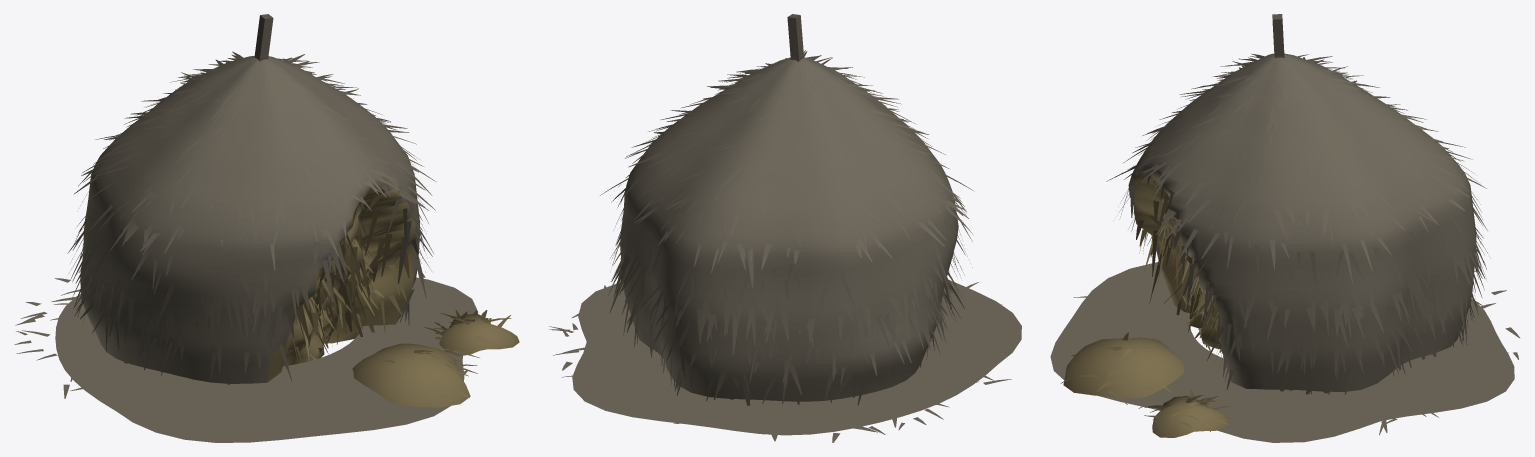
The model's file is lees_place_haystack_1812_d__lees_place_1812.glb.
The picture shows the model from 3 angles, left to right: view 1: azimuth 30°, elevation 25°; view 2: azimuth 150°, elevation 25°; view 3: azimuth 270°, elevation 25°; orthographic projection.
Visible parts, largest first — view 1: lees_place_haystack_1812_d__lees_place_1812; view 2: lees_place_haystack_1812_d__lees_place_1812; view 3: lees_place_haystack_1812_d__lees_place_1812.
Boxes of the visible parts, <box> form: lees_place_haystack_1812_d__lees_place_1812: <box>14,14,519,442</box>; lees_place_haystack_1812_d__lees_place_1812: <box>549,14,1021,442</box>; lees_place_haystack_1812_d__lees_place_1812: <box>1050,14,1519,442</box>.
Bounding box in the file's own units: 4.99 × 3.98 × 4.94.
